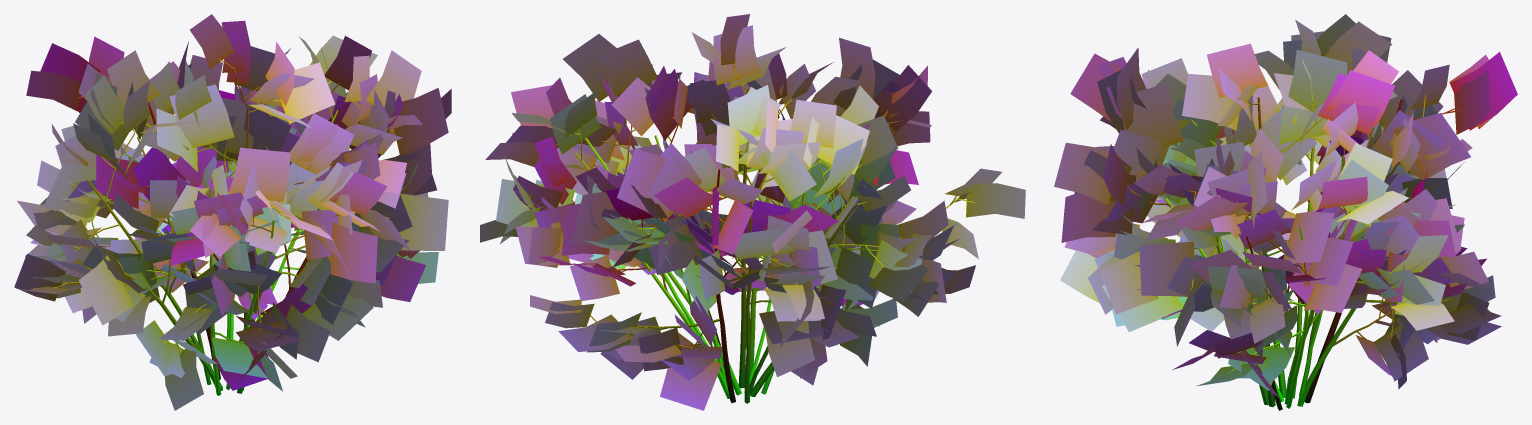
File: prunus_spinosa.glb
3 views of the same model, side by side, from view 1: azimuth 30°, elevation 25°; view 2: azimuth 150°, elevation 25°; view 3: azimuth 270°, elevation 25° (orthographic). The views are drawn at different scales.
Visible parts, largest first — view 1: prunus_spinosa_lod0; view 2: prunus_spinosa_lod0; view 3: prunus_spinosa_lod0.
Part boxes in pixels (bbox=[...]): prunus_spinosa_lod0: bbox=[14, 14, 451, 410]; prunus_spinosa_lod0: bbox=[480, 14, 1025, 410]; prunus_spinosa_lod0: bbox=[1054, 14, 1517, 410].
Size of what is drawn, in the model's own units: 4.03 by 3.04 by 3.39.
